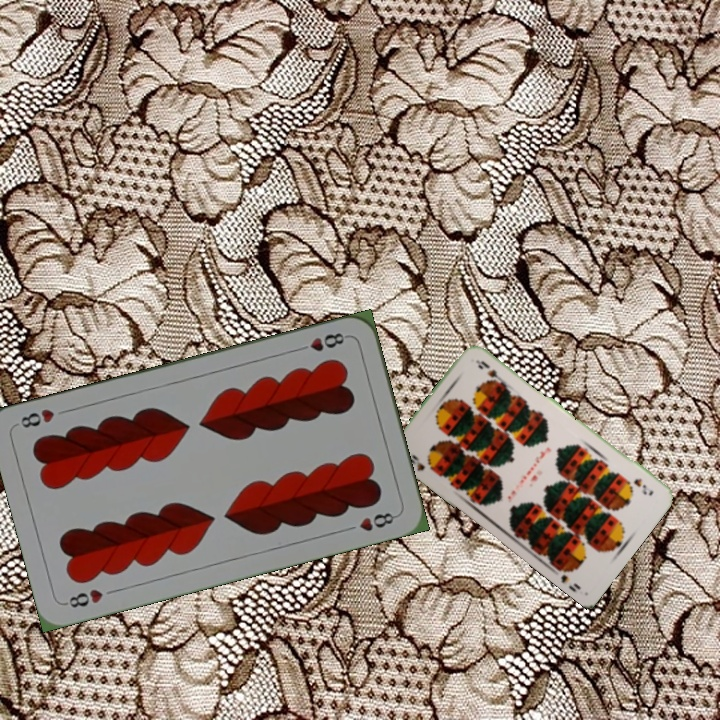H8: (293, 328, 351, 354), (61, 585, 105, 611)
S9: (403, 450, 438, 475), (630, 474, 656, 498)
